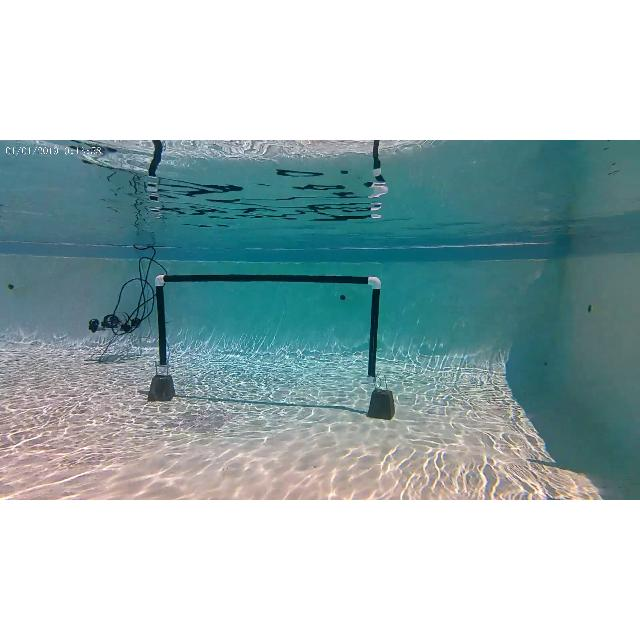prequal gate: (155, 274, 381, 384)
prequal gate leg l: (155, 273, 177, 403)
prequal gate leg r: (366, 277, 400, 427)
